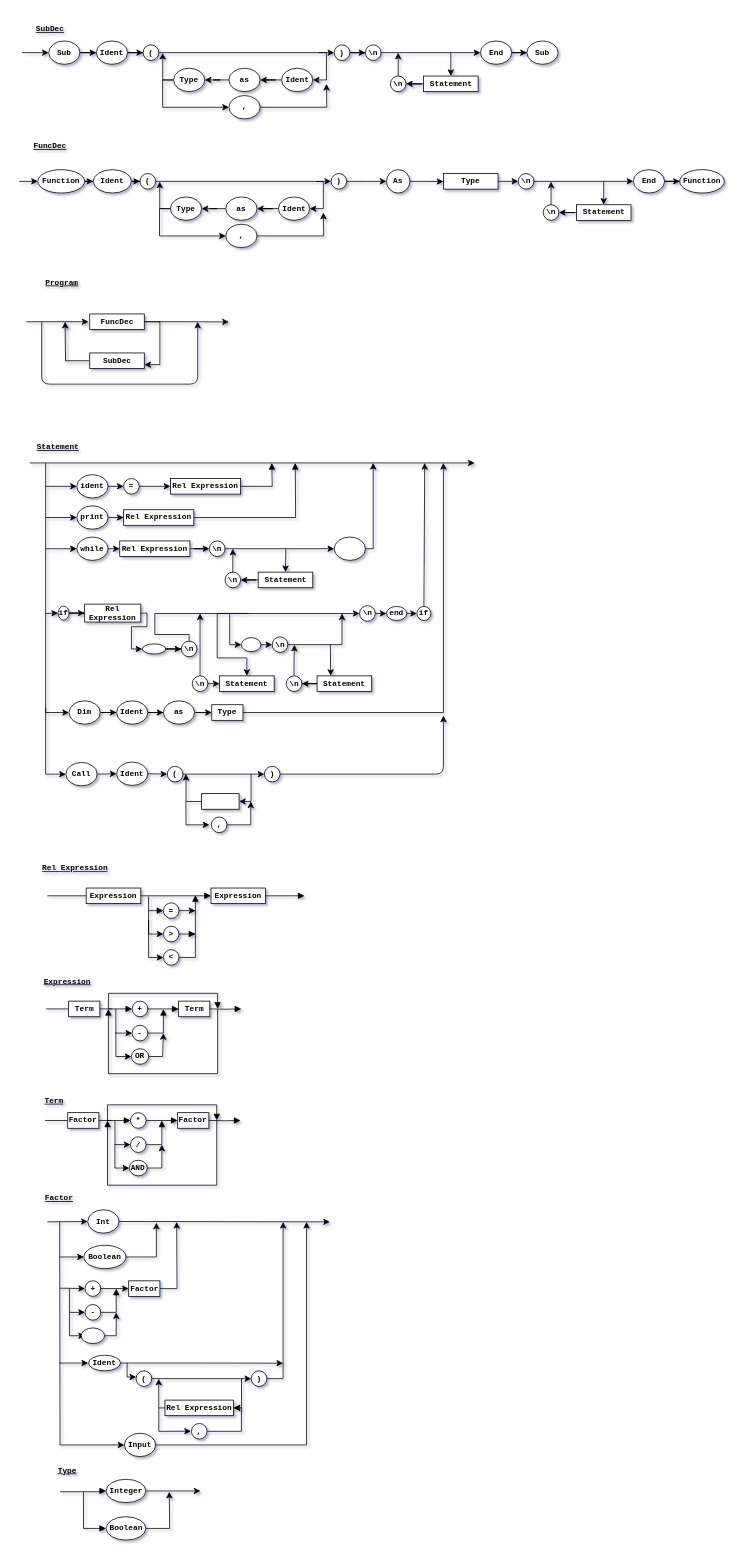
Image size: 743x1558. Some labels were removed from this diagram. Here are the shapes that lost their labels. From the top down, the centre of each, then its label:
At point (349, 548): "wend".
At point (154, 648): "then".
At point (251, 644): "else".
At point (220, 801): "RelExp".
At point (92, 1335): "NOT".
